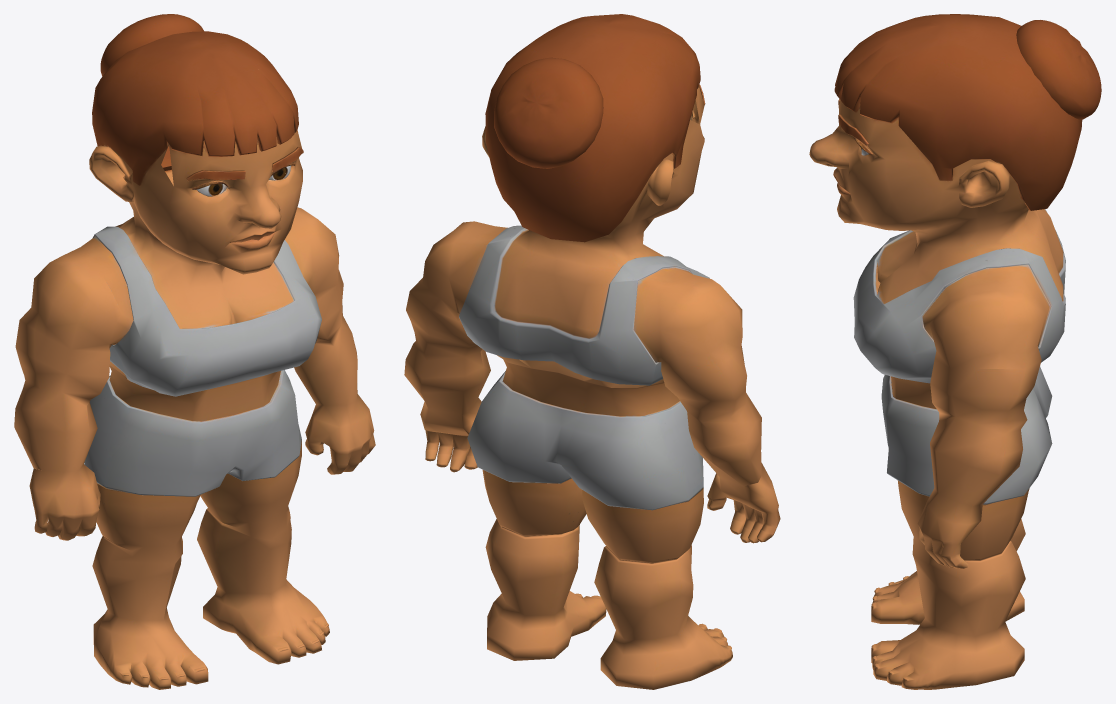
File: dwarf-female-v5-textured.fbx
The picture shows the model from 3 angles, left to right: view 1: azimuth 30°, elevation 25°; view 2: azimuth 150°, elevation 25°; view 3: azimuth 270°, elevation 25°; orthographic projection. The views are drawn at different scales.
Parts seen in each view (by area): view 1: tripo_5a41619f_2d87_495a_bd97_d27cf9931486; view 2: tripo_5a41619f_2d87_495a_bd97_d27cf9931486; view 3: tripo_5a41619f_2d87_495a_bd97_d27cf9931486.
Part boxes in pixels (box(x1,y1,x2,y2)): tripo_5a41619f_2d87_495a_bd97_d27cf9931486: box(14, 14, 375, 689); tripo_5a41619f_2d87_495a_bd97_d27cf9931486: box(404, 14, 780, 689); tripo_5a41619f_2d87_495a_bd97_d27cf9931486: box(809, 14, 1101, 689).
Bounding box in the file's own units: 0.5903 × 0.9995 × 0.4312.
Materials: 1 (1 with a texture image).
